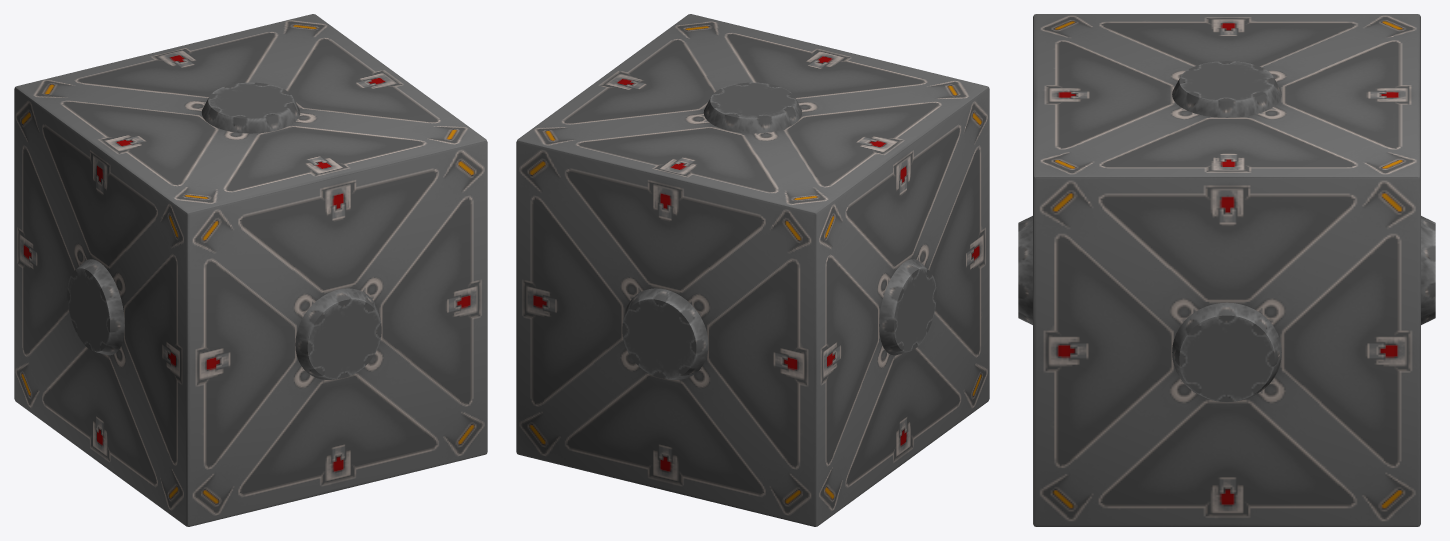
Rendered from quaternius-scifi-crate-4.glb.
3 views of the same model, side by side, from view 1: azimuth 30°, elevation 25°; view 2: azimuth 150°, elevation 25°; view 3: azimuth 270°, elevation 25° (orthographic). The views are drawn at different scales.
Parts seen in each view (by area): view 1: Prop_Crate4; view 2: Prop_Crate4; view 3: Prop_Crate4.
Boxes of the visible parts, left/top/right/bottom form: Prop_Crate4: left=14, top=14, right=487, bottom=526; Prop_Crate4: left=516, top=14, right=989, bottom=526; Prop_Crate4: left=1018, top=14, right=1435, bottom=526.
Size of the model in its own units: 1.12 by 1.12 by 1.12.
1 material, 1 textured.
